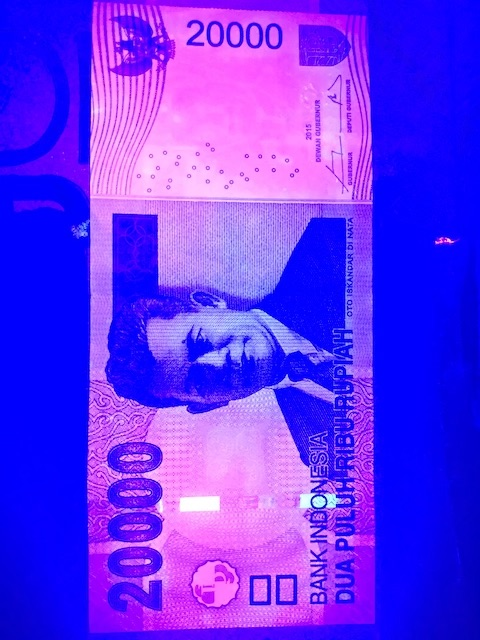PITA_BERSINAR: (172, 489, 338, 515)
